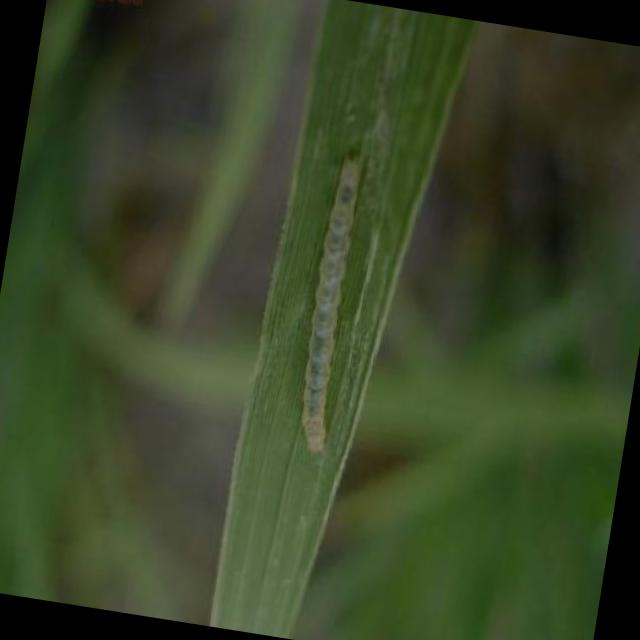leaf-folder: (270, 126, 403, 513)
